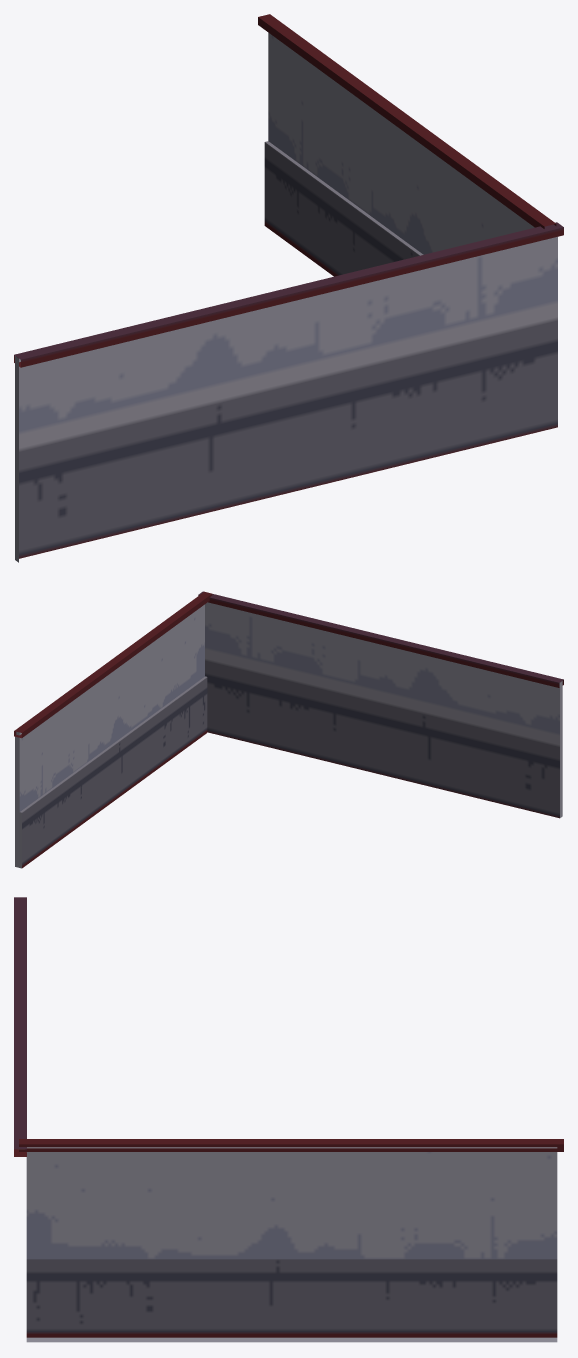
File: Parede.fbx
3 views of the same model, one above another, from view 1: azimuth 30°, elevation 25°; view 2: azimuth 150°, elevation 25°; view 3: azimuth 270°, elevation 25° (orthographic). The views are drawn at different scales.
Parts seen in each view (by area): view 1: Parede; view 2: Parede; view 3: Parede.
Boxes of the visible parts, bbox=[...] form: Parede: bbox=[14, 14, 563, 562]; Parede: bbox=[14, 591, 563, 868]; Parede: bbox=[14, 897, 563, 1342].
Bounding box in the file's own units: 982 × 358 × 905.
